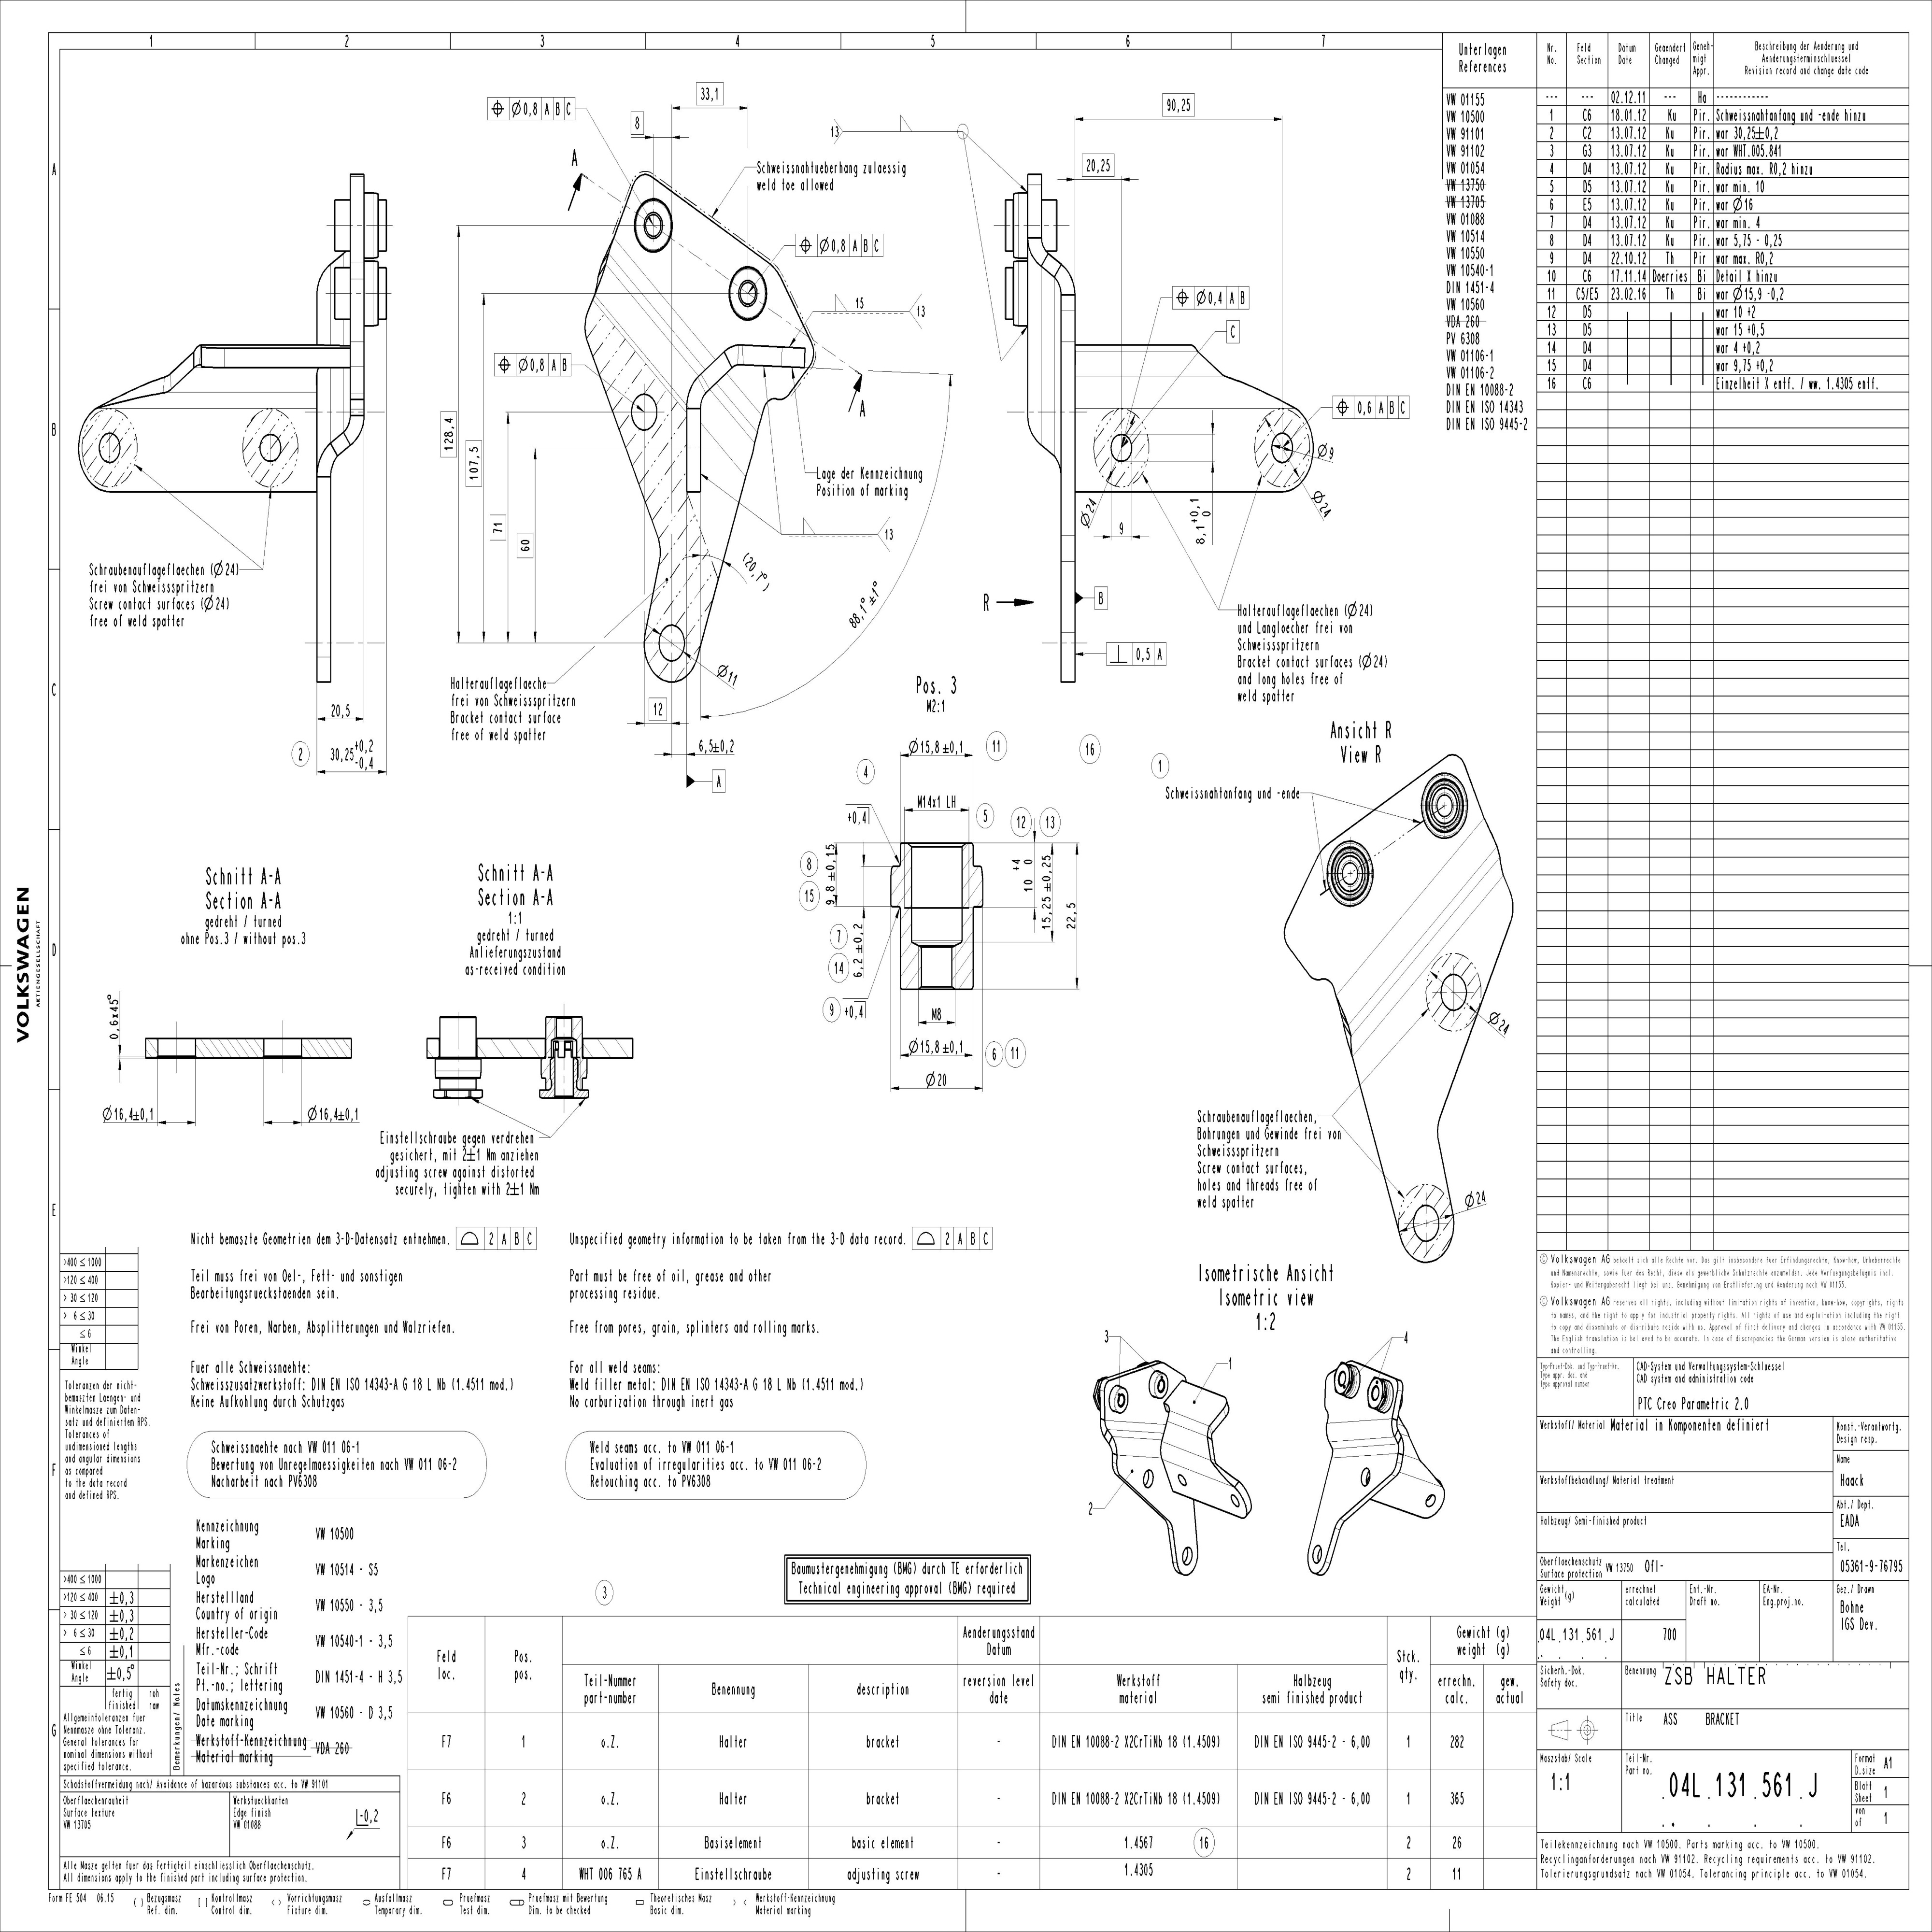BendingEdge: (1322, 816, 1511, 1030), (1338, 851, 1514, 1062), (1332, 846, 1506, 1047), (602, 237, 725, 370), (584, 269, 706, 396), (1070, 375, 1283, 410), (1154, 1438, 1247, 1491), (90, 389, 318, 410), (1076, 350, 1212, 375), (1042, 288, 1062, 456), (1157, 1417, 1224, 1465), (1323, 1415, 1396, 1444), (1162, 1408, 1215, 1442), (1106, 1433, 1168, 1460), (1102, 1417, 1169, 1437), (1329, 1435, 1401, 1453), (1330, 1442, 1401, 1460), (1106, 1428, 1166, 1442), (163, 373, 173, 395)
BendingEdgeCurve: (1053, 260, 1077, 301), (313, 442, 340, 476), (343, 412, 366, 448), (1024, 235, 1049, 267)
InnerContour: (655, 621, 688, 663), (630, 393, 660, 432), (1414, 1203, 1440, 1244), (1440, 973, 1468, 1010), (1109, 432, 1134, 464), (1270, 432, 1295, 464), (1139, 1468, 1159, 1490), (1359, 1467, 1371, 1486), (1182, 1546, 1194, 1566), (1313, 1543, 1323, 1564), (1424, 1491, 1437, 1509), (1230, 1493, 1242, 1509), (1177, 1474, 1189, 1488)
ThroughHole: (241, 409, 301, 488), (80, 409, 138, 490), (725, 264, 768, 322), (632, 198, 674, 255)
